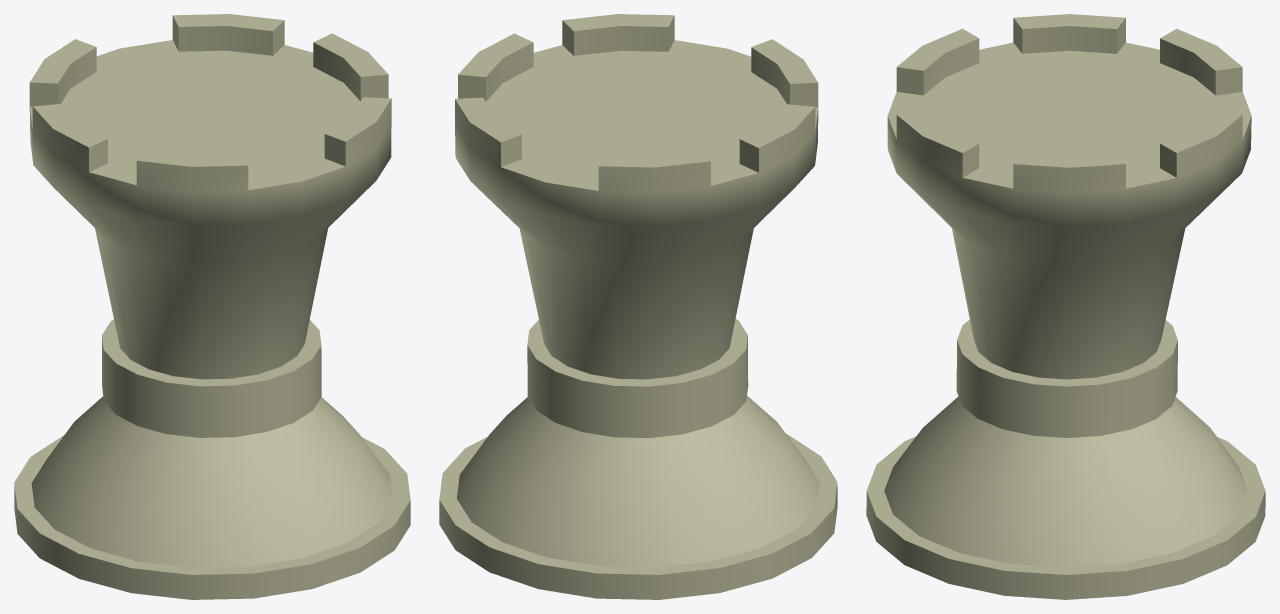
Rendered from KR_Model_GuardTower_FinalVer_Vang.fbx.
The picture shows the model from 3 angles, left to right: view 1: azimuth 30°, elevation 25°; view 2: azimuth 150°, elevation 25°; view 3: azimuth 270°, elevation 25°; orthographic projection.
Parts seen in each view (by area): view 1: pCylinder5; view 2: pCylinder5; view 3: pCylinder5.
Part boxes in pixels (x1,y1,x2,y2): pCylinder5: (14, 14, 410, 599); pCylinder5: (439, 14, 837, 599); pCylinder5: (866, 14, 1265, 599).
Size of the model in its own units: 3.97 by 4.67 by 3.97.
